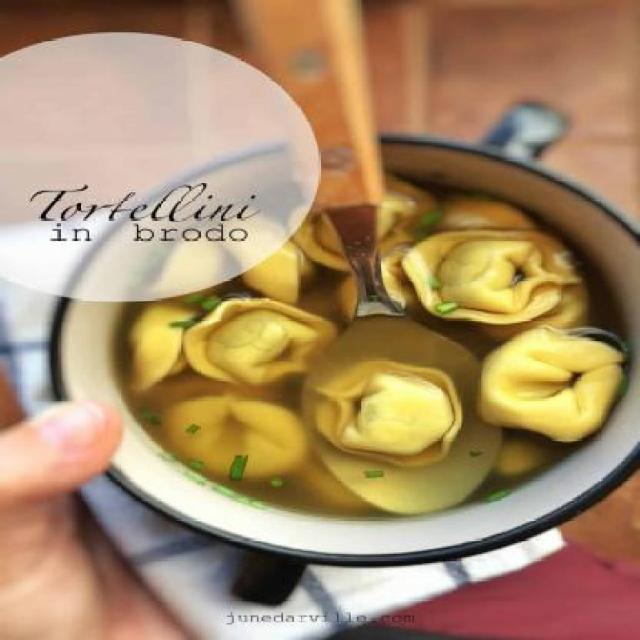Tortellini in broth: (172, 216, 640, 510)
